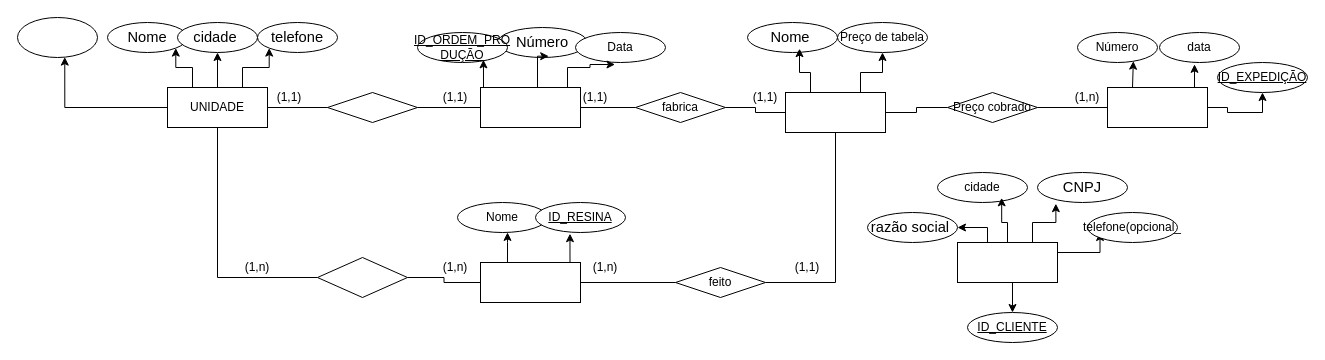
The diagram is 1325 pixels wide and 360 high, and some of its shapes have lost their labels. Each missing label, with the centre of its shape:
"CLIENTE" goes at (1007,262).
"EXPEDIÇÃO" goes at (1157,107).
"ID_UNIDADE" goes at (57,37).
"ORDEM DE PRODUÇÃO" goes at (530,107).
"pertence" goes at (372,107).
"PRODUTO" goes at (835,112).
"Quilos de resina" goes at (362,277).
"RESINA" goes at (530,282).
